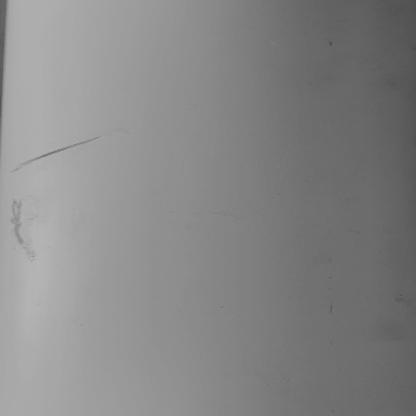sunshang: (12, 136, 96, 174), (4, 197, 48, 266)
